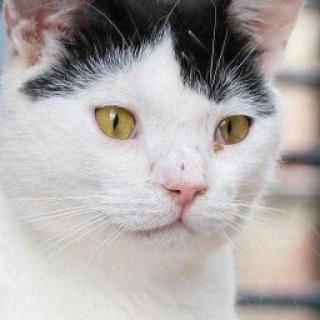cat: (7, 0, 294, 269)
nose: (153, 148, 209, 210)
